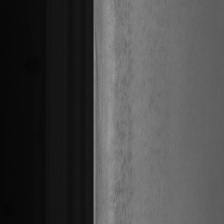silk_spot: (114, 23, 136, 211)
